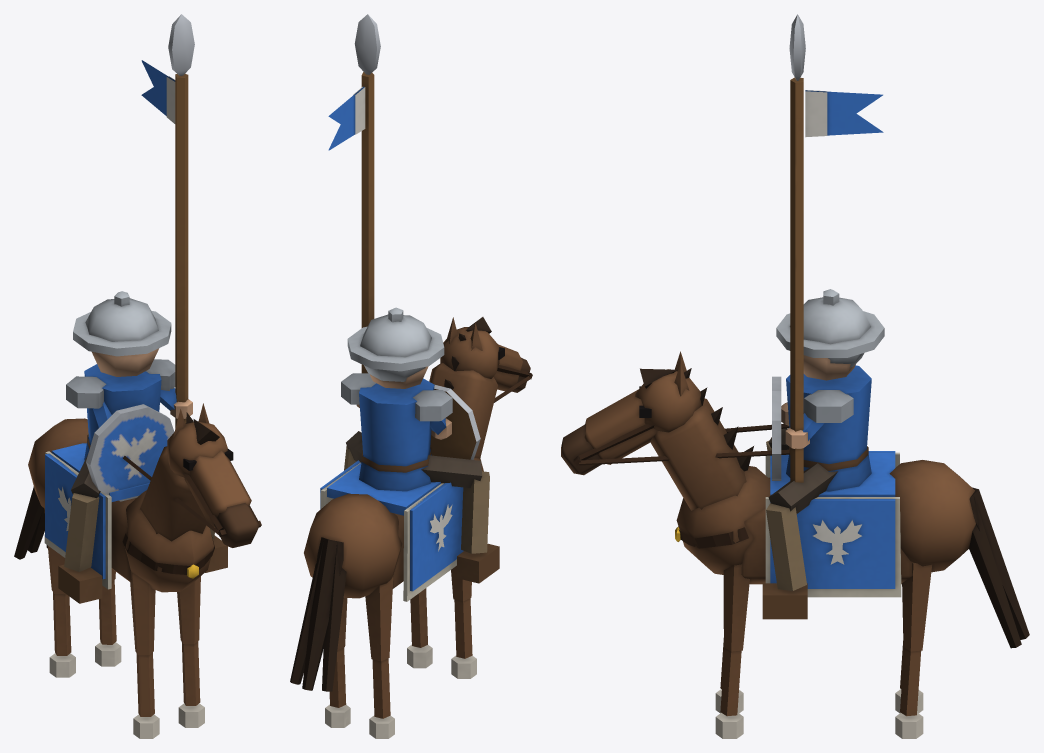
Rendered from assault_dl2_blue.glb.
3 renders of one model, left to right at view 1: azimuth 30°, elevation 25°; view 2: azimuth 150°, elevation 25°; view 3: azimuth 270°, elevation 25°, orthographic. The views are drawn at different scales.
Visible parts, largest first — view 1: assault_dl2_blue; view 2: assault_dl2_blue; view 3: assault_dl2_blue.
Boxes of the visible parts, left/top/right/bottom form: assault_dl2_blue: left=14, top=14, right=261, bottom=738; assault_dl2_blue: left=290, top=14, right=532, bottom=738; assault_dl2_blue: left=561, top=14, right=1029, bottom=738.
Size of the model in its own units: 0.2399 by 1.03 by 0.6004.
1 material, 1 textured.
